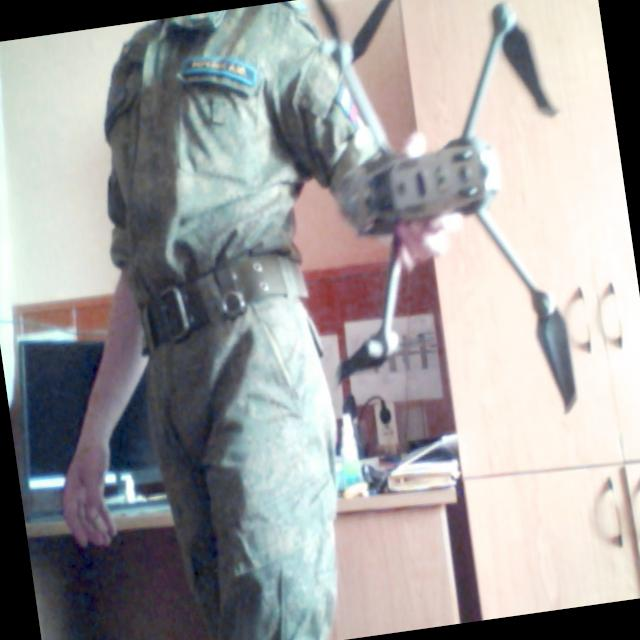drone: (300, 8, 592, 362)
